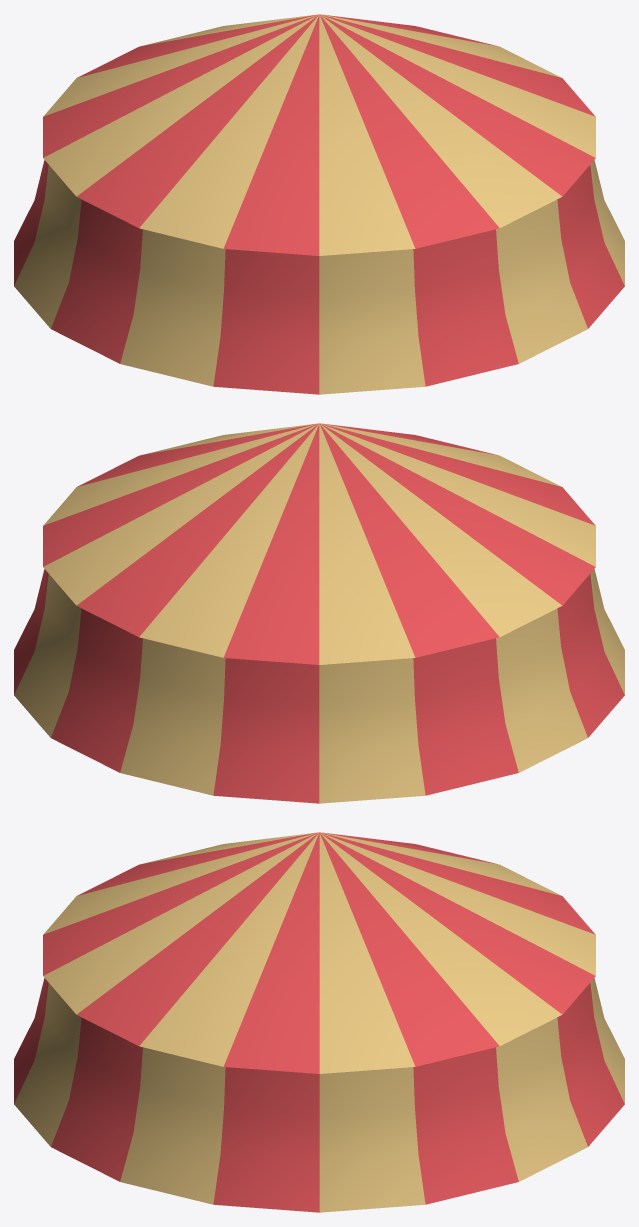
Rendered from tent1.fbx.
The picture shows the model from 3 angles, top to bottom: view 1: azimuth 30°, elevation 25°; view 2: azimuth 150°, elevation 25°; view 3: azimuth 270°, elevation 25°; orthographic projection.
Parts seen in each view (by area): view 1: pCone1, pPipe1; view 2: pCone1, pPipe1; view 3: pCone1, pPipe1.
Part boxes in pixels (<box>): pCone1: <box>43,14,595,255</box>; pPipe1: <box>14,160,624,394</box>; pCone1: <box>43,423,595,664</box>; pPipe1: <box>14,569,624,803</box>; pCone1: <box>43,832,595,1073</box>; pPipe1: <box>14,978,624,1212</box>.
Size of the model in its own units: 33.35 by 14.79 by 32.84.
